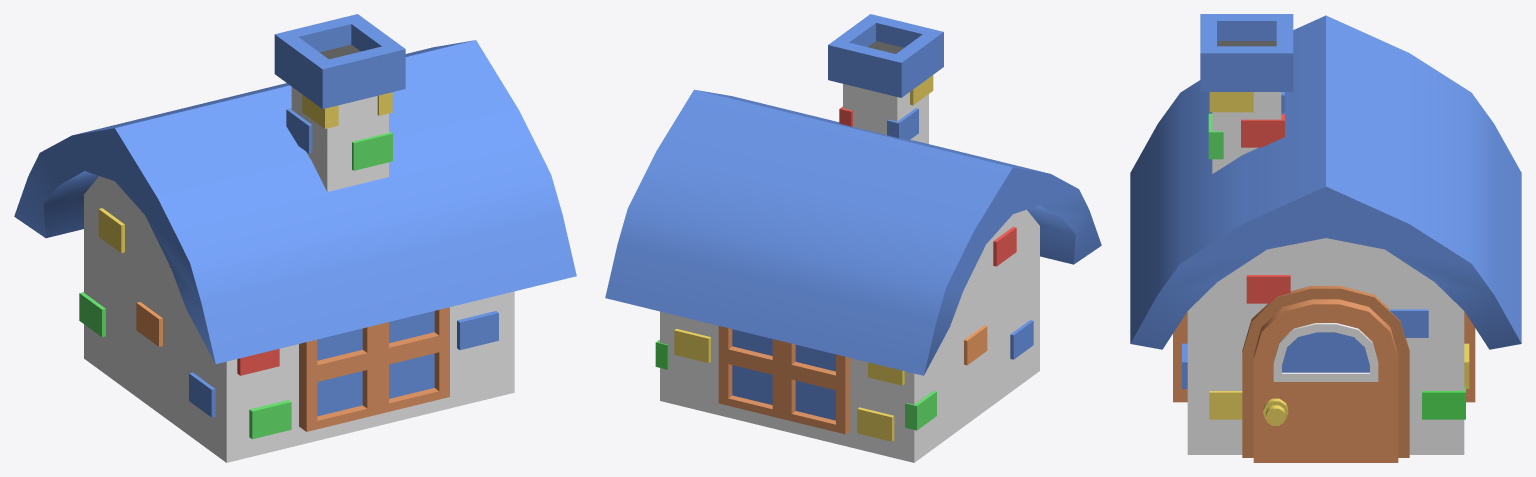
The model's file is House_A.fbx.
3 renders of one model, left to right at view 1: azimuth 30°, elevation 25°; view 2: azimuth 150°, elevation 25°; view 3: azimuth 270°, elevation 25°, orthographic. The views are drawn at different scales.
Parts seen in each view (by area): view 1: House_A; view 2: House_A; view 3: House_A.
Part boxes in pixels (x1,y1,x2,y2): House_A: (14,14,576,462); House_A: (605,14,1101,462); House_A: (1130,14,1521,462).
Bounding box in the file's own units: 367 × 354 × 355.
